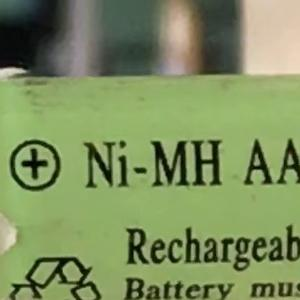NI-MH: (74, 130, 230, 198)
